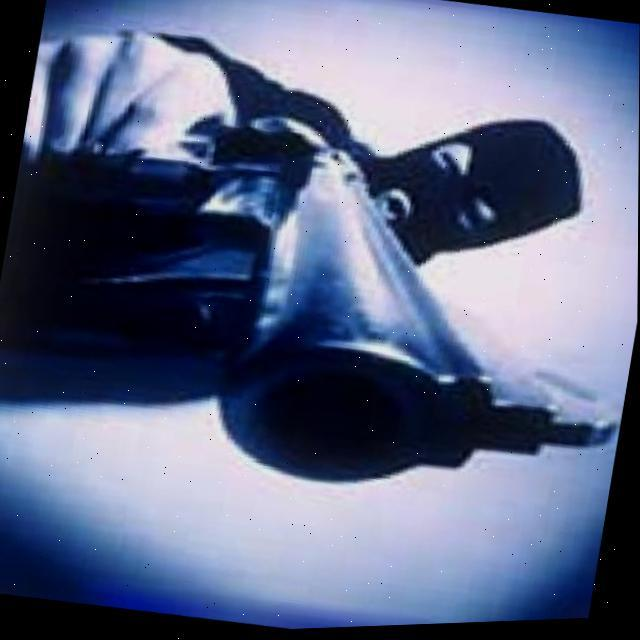gun: (0, 67, 639, 544)
